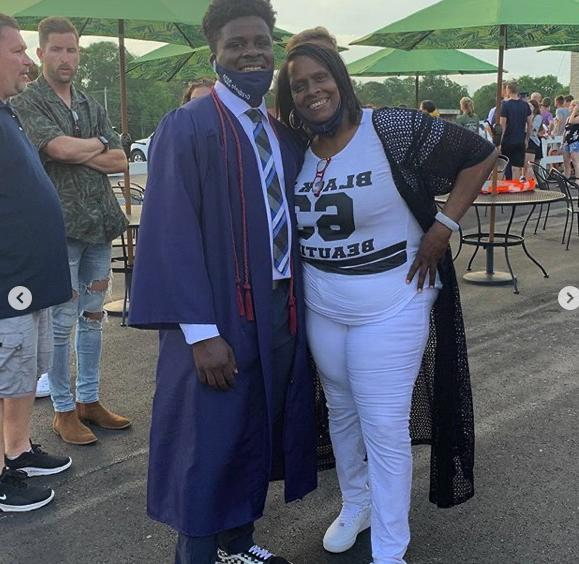mask_weared_incorrect: (219, 29, 273, 93), (294, 67, 337, 133)
without_mask: (2, 38, 32, 96), (45, 37, 77, 82)
